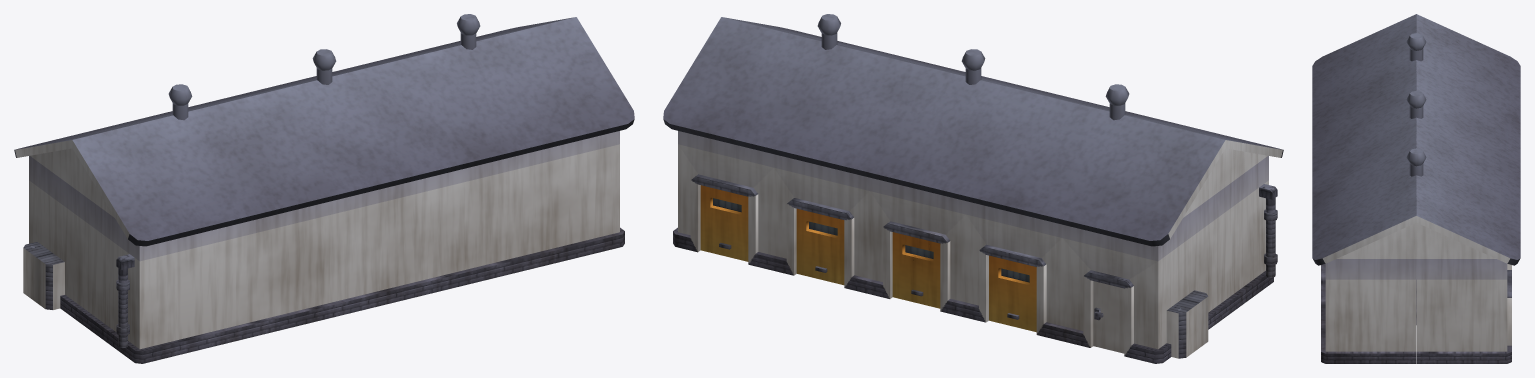
The model's file is building-s-white.glb.
3 views of the same model, side by side, from view 1: azimuth 30°, elevation 25°; view 2: azimuth 150°, elevation 25°; view 3: azimuth 270°, elevation 25° (orthographic). The views are drawn at different scales.
Parts seen in each view (by area): view 1: building-s; view 2: building-s; view 3: building-s.
Part boxes in pixels (box(x1,y1,x2,y2)): building-s: box(14, 14, 634, 363); building-s: box(663, 14, 1283, 363); building-s: box(1312, 14, 1520, 363).
Bounding box in the file's own units: 2.12 × 0.8368 × 0.9163.
Materials: 1 (1 with a texture image).
